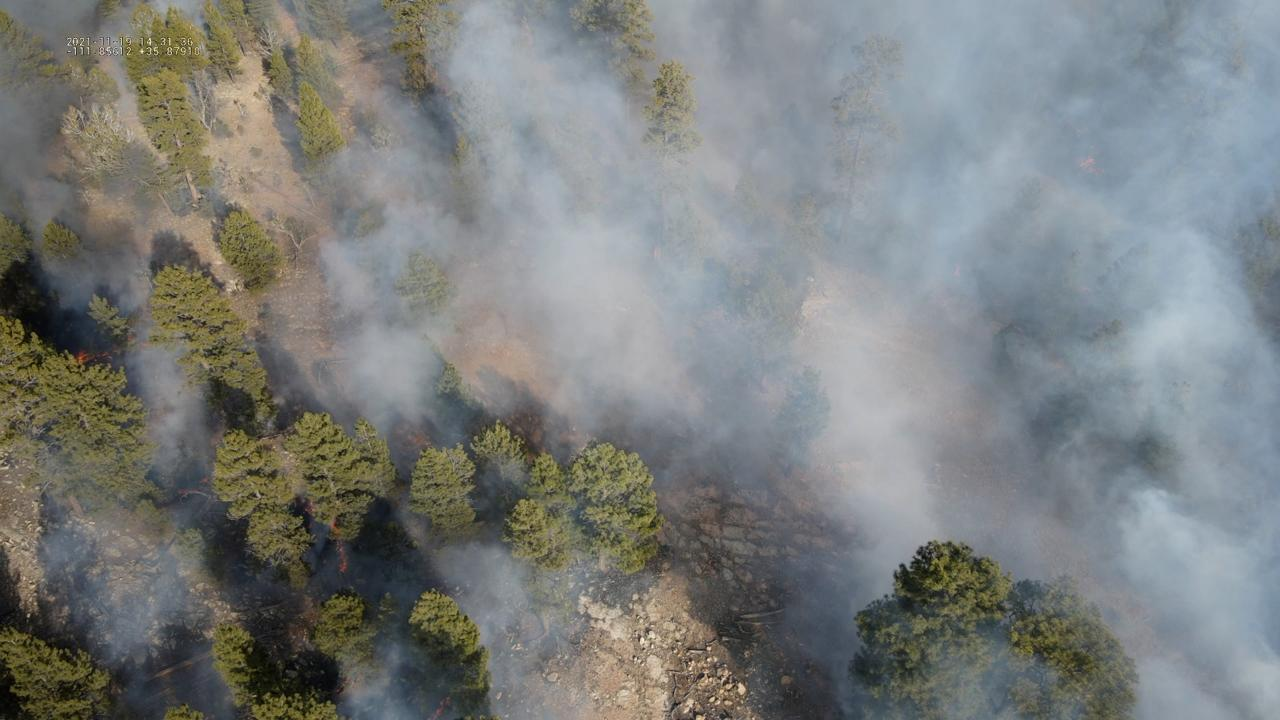fire: (328, 518, 349, 576), (426, 694, 452, 720), (76, 348, 94, 364), (198, 476, 209, 485)
smoke: (0, 0, 1280, 720)
